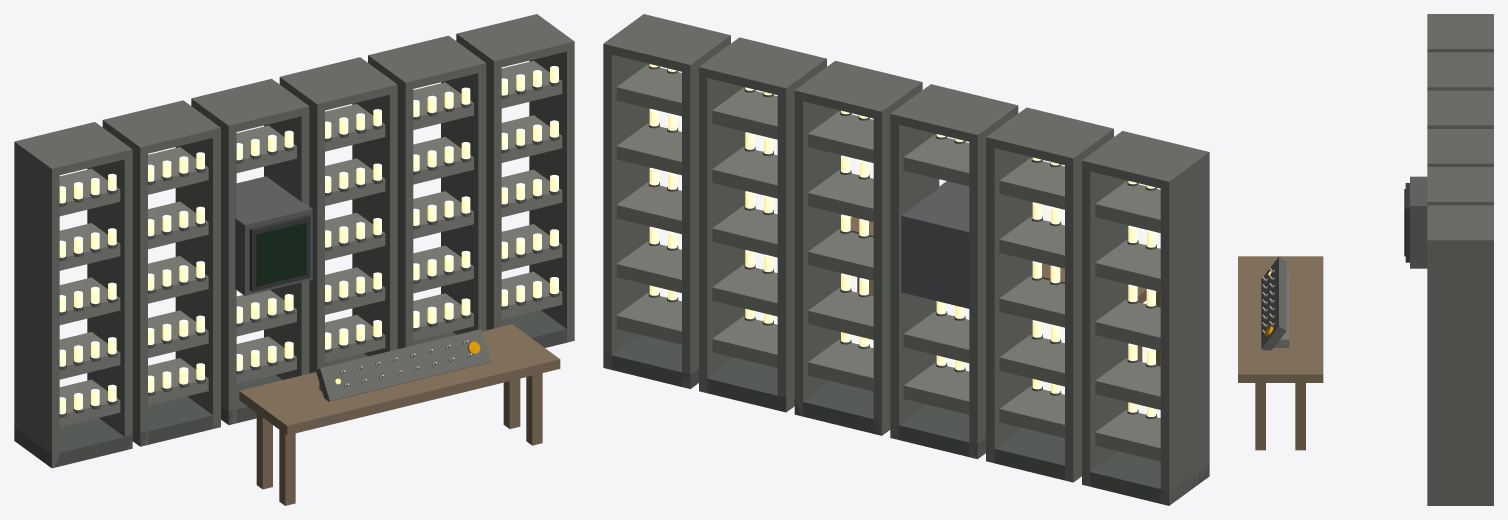
The model's file is ssem.glb.
3 views of the same model, side by side, from view 1: azimuth 30°, elevation 25°; view 2: azimuth 150°, elevation 25°; view 3: azimuth 270°, elevation 25° (orthographic). The views are drawn at different scales.
Visible parts, largest first — view 1: rack0_l, bench_top, rack5_r, rack0_r, rack1_r, rack4_r, rack3_r, sw_panel, rack1_l, rack4_l, rack5_l, rack2_r (+47 smaller); view 2: rack0_l, rack0_r, rack4_r, rack3_r, rack1_r, rack5_r, rack2_r, crt_body, rack3_l, rack4_l, rack2_l, rack1_l (+41 smaller); view 3: rack5_r, bench_top, rack1_t, rack0_t, rack2_t, rack4_t, rack3_t, rack5_t, sw_panel, crt_body, bench_leg1, bench_leg3 (+3 smaller).
Boxes of the visible parts, box(x1,y1,x2,y2) form: rack0_l: box(14, 142, 59, 468); bench_top: box(239, 324, 560, 435); rack5_r: box(529, 14, 574, 342); rack0_r: box(87, 124, 132, 449); rack1_r: box(175, 119, 220, 428); rack4_r: box(441, 36, 486, 334); rack3_r: box(352, 62, 397, 356); sw_panel: box(316, 329, 490, 401); rack1_l: box(102, 120, 147, 446); rack4_l: box(368, 53, 413, 348); rack5_l: box(456, 32, 501, 330); rack2_r: box(264, 106, 309, 379); rack0_l: box(1160, 150, 1209, 505); rack0_r: box(1082, 131, 1130, 486); rack4_r: box(699, 41, 745, 392); rack3_r: box(794, 61, 841, 416); rack1_r: box(986, 107, 1034, 463); rack5_r: box(603, 37, 649, 369); rack2_r: box(890, 85, 939, 439); crt_body: box(901, 181, 969, 308); rack3_l: box(873, 80, 922, 435); rack4_l: box(777, 57, 826, 411); rack2_l: box(969, 103, 1018, 459); rack1_l: box(1065, 127, 1113, 482); rack5_r: box(1427, 237, 1493, 505); bench_top: box(1238, 256, 1323, 382); rack1_t: box(1427, 52, 1493, 90); rack0_t: box(1427, 14, 1493, 52); rack2_t: box(1427, 90, 1493, 128); rack4_t: box(1427, 167, 1493, 205); rack3_t: box(1427, 129, 1493, 166); rack5_t: box(1427, 205, 1493, 243); sw_panel: box(1261, 256, 1286, 350); crt_body: box(1410, 176, 1427, 268); bench_leg1: box(1295, 383, 1305, 450); bench_leg3: box(1255, 383, 1265, 450).
Size of the model in its own units: 4.02 by 2.2 by 1.92.
